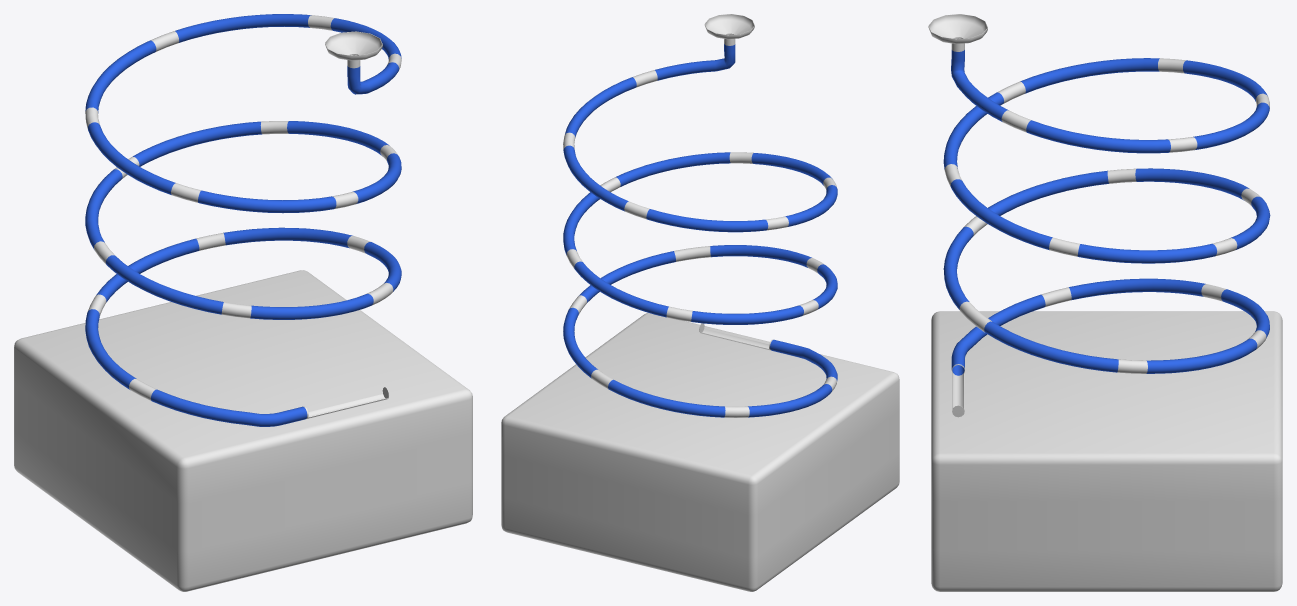
The model's file is BolasBolas.fbx.
3 views of the same model, side by side, from view 1: azimuth 30°, elevation 25°; view 2: azimuth 150°, elevation 25°; view 3: azimuth 270°, elevation 25° (orthographic). The views are drawn at different scales.
Parts seen in each view (by area): view 1: Cube.003, BolasBase; view 2: Cube.003, BolasBase; view 3: Cube.003, BolasBase.
Part boxes in pixels (x1,y1,x2,y2): Cube.003: (14,270,472,591); BolasBase: (85,14,401,426); Cube.003: (501,312,899,591); BolasBase: (563,14,837,417); Cube.003: (931,311,1282,591); BolasBase: (928,14,1270,417).
Size of the model in its own units: 88.66 by 143 by 89.39.
